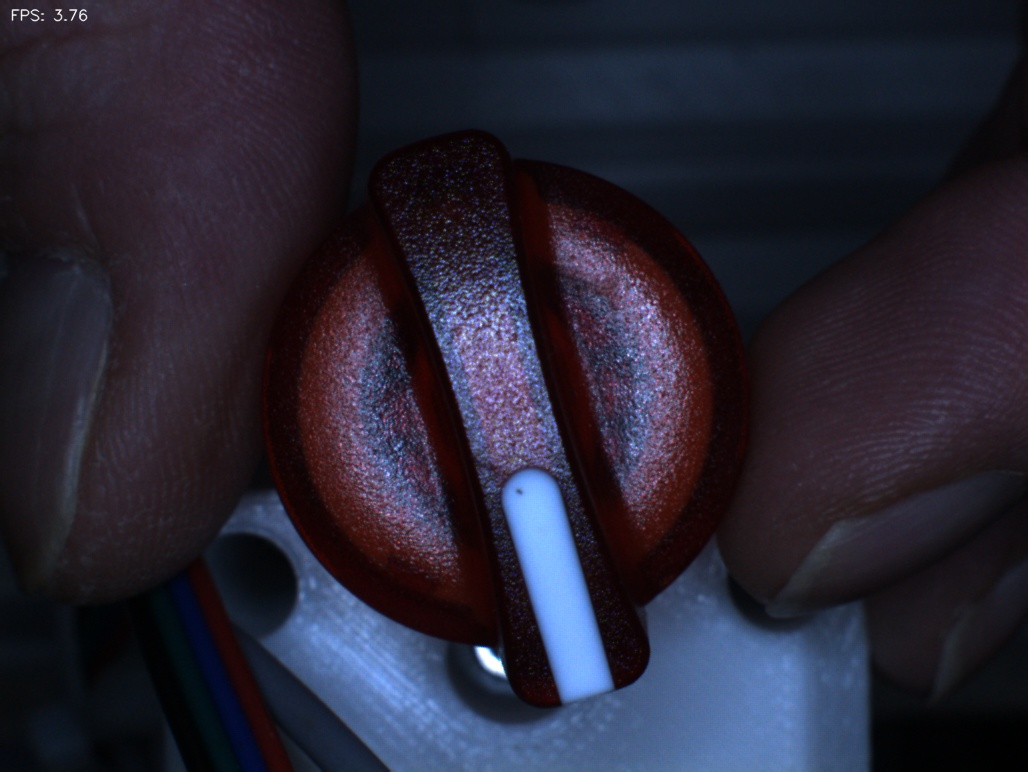PointNoir: (482, 461, 556, 533)
